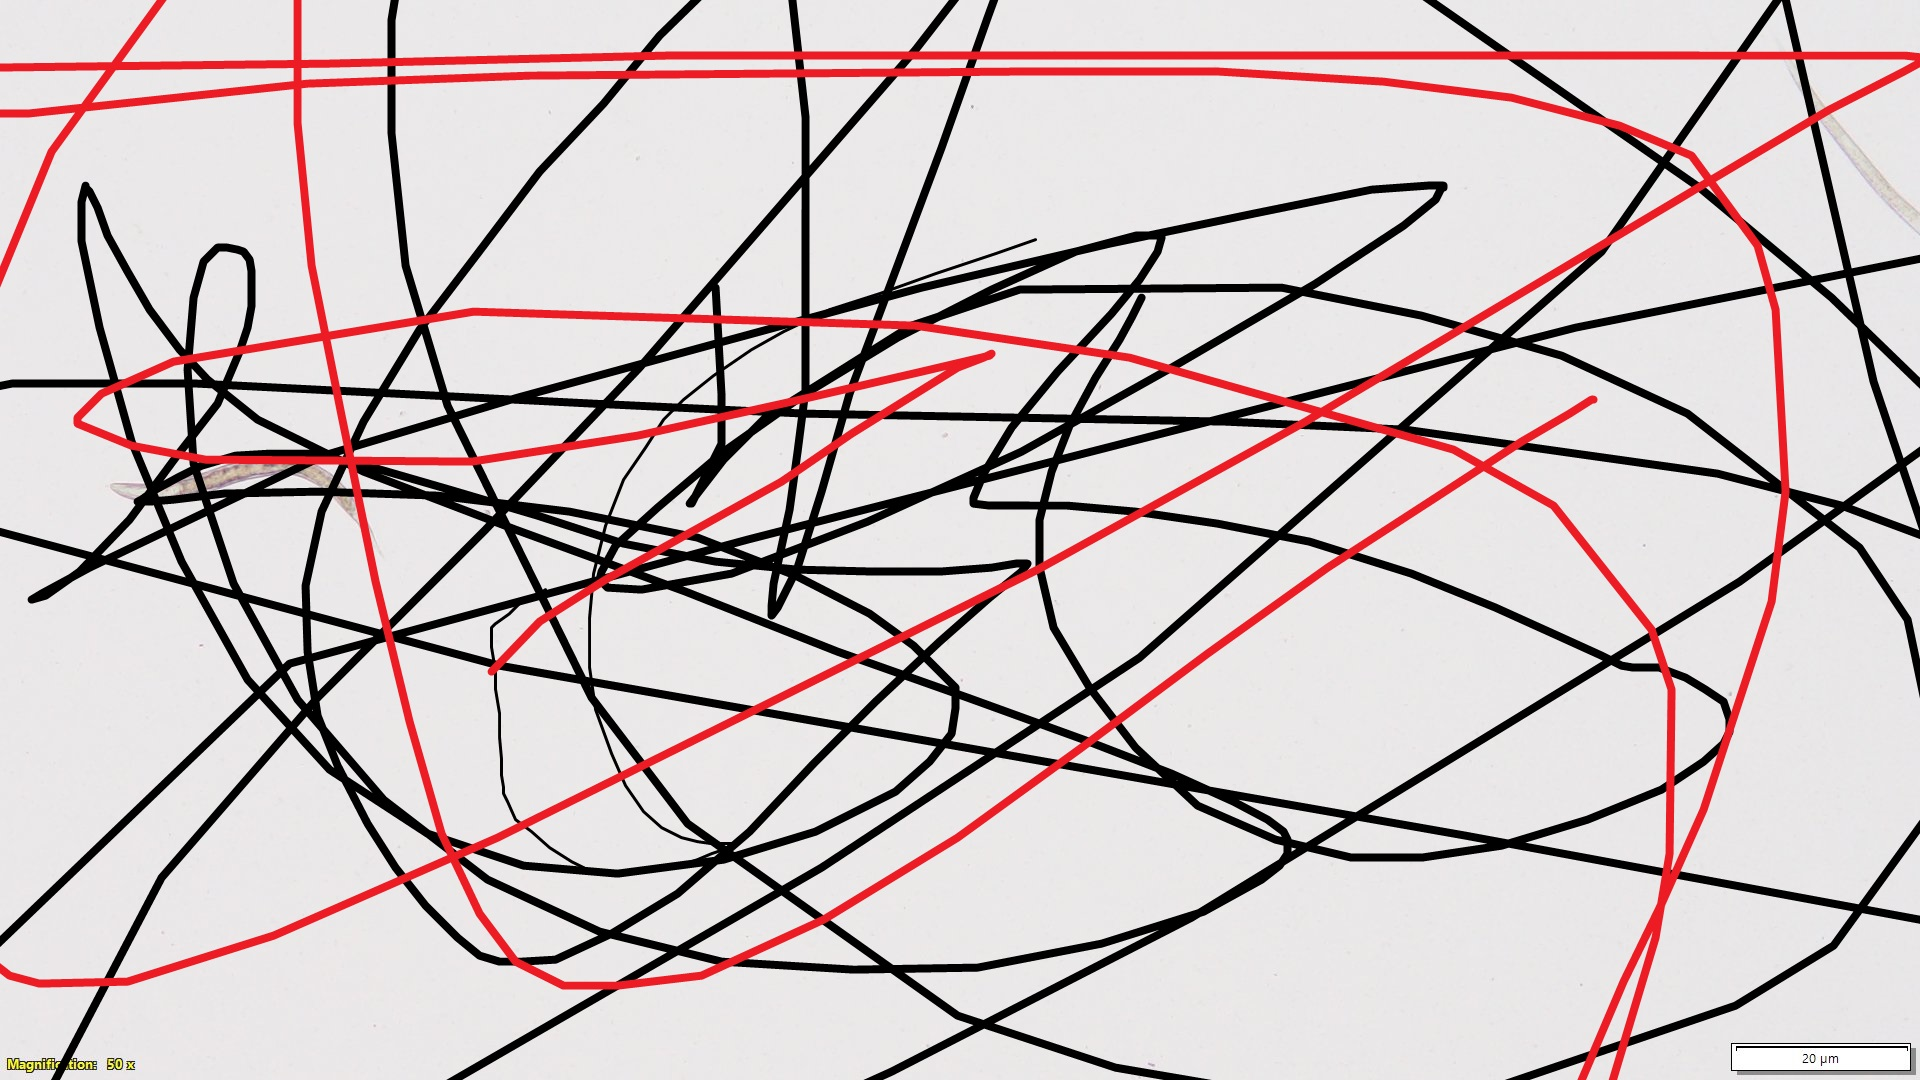celeg: (103, 440, 398, 559)
